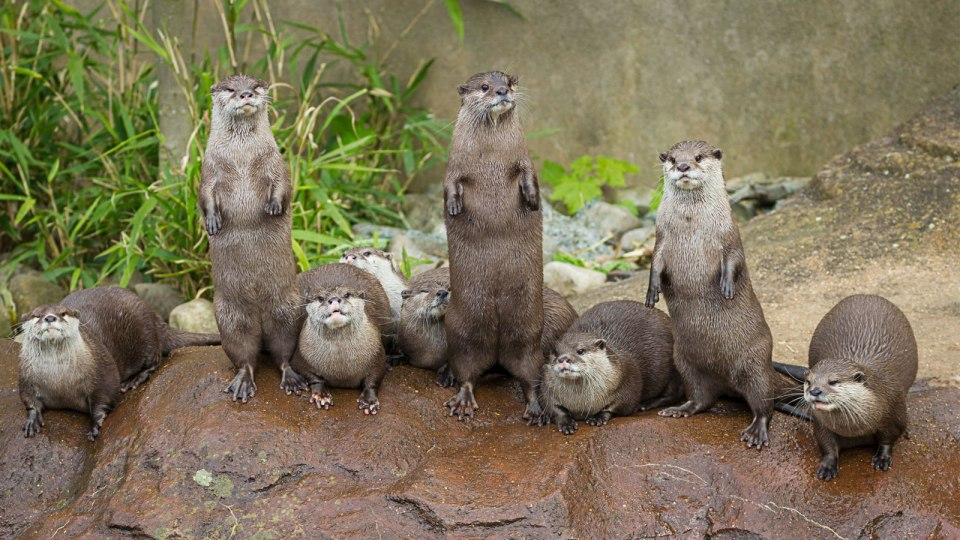otter: (423, 64, 565, 436), (184, 65, 317, 407)
